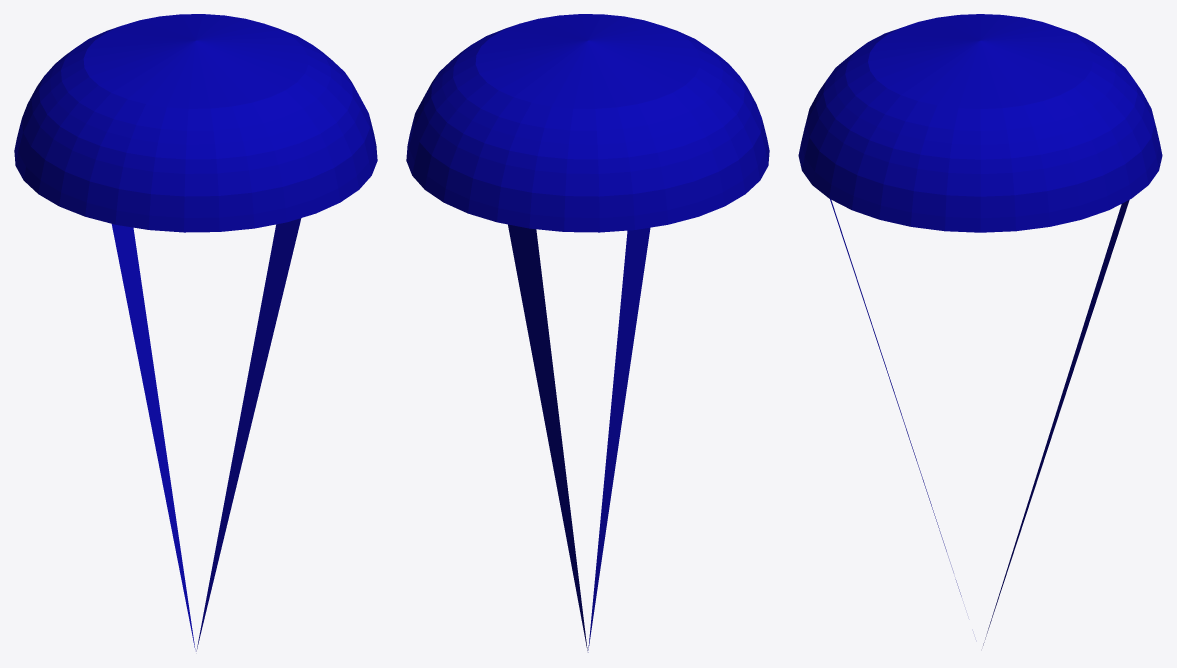
File: Parachute.obj
The picture shows the model from 3 angles, left to right: view 1: azimuth 30°, elevation 25°; view 2: azimuth 150°, elevation 25°; view 3: azimuth 270°, elevation 25°; orthographic projection.
Visible parts, largest first — view 1: Cylinder_Cylinder.002; view 2: Cylinder_Cylinder.002; view 3: Cylinder_Cylinder.002.
Part boxes in pixels (left/top/right/bottom): Cylinder_Cylinder.002: left=14, top=14, right=377, bottom=651; Cylinder_Cylinder.002: left=406, top=14, right=769, bottom=652; Cylinder_Cylinder.002: left=798, top=14, right=1162, bottom=645.
Size of the model in its own units: 3.23 by 6.01 by 3.23.
